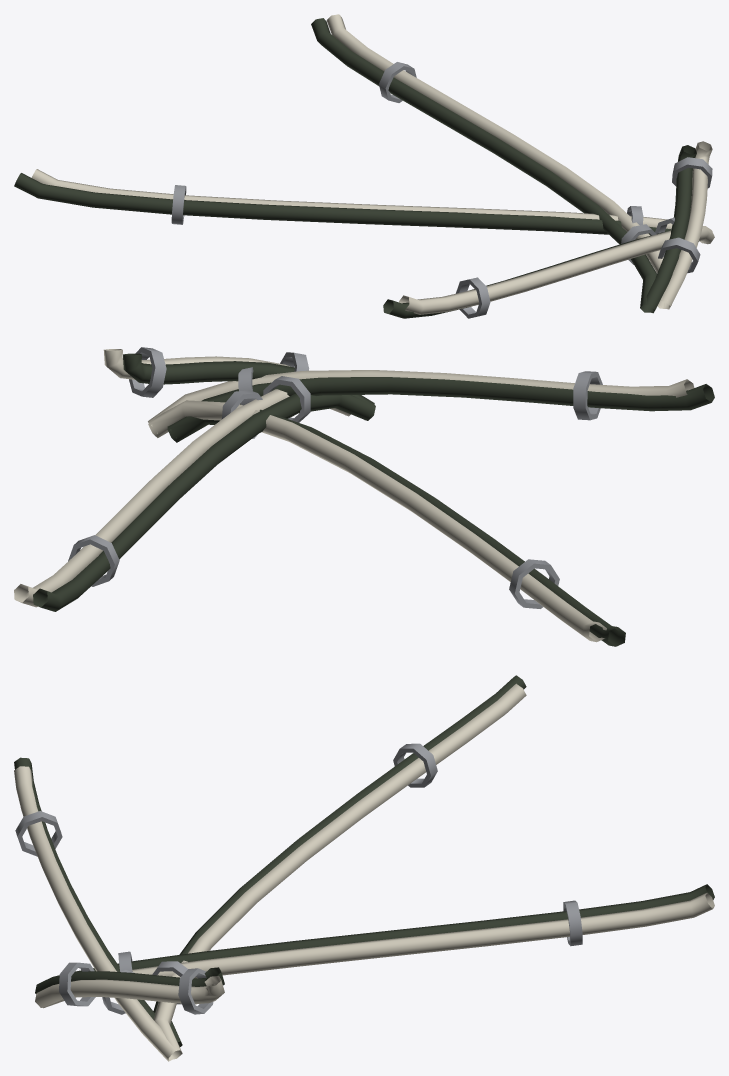
The model's file is rcsh_harness.obj.
3 renders of one model, top to bottom at view 1: azimuth 30°, elevation 25°; view 2: azimuth 150°, elevation 25°; view 3: azimuth 270°, elevation 25°, orthographic. The views are drawn at different scales.
Visible parts, largest first — view 1: rcsh_harness; view 2: rcsh_harness; view 3: rcsh_harness.
Boxes of the visible parts, left/top/right/bottom form: rcsh_harness: left=14, top=14, right=714, bottom=318; rcsh_harness: left=14, top=347, right=714, bottom=646; rcsh_harness: left=14, top=675, right=714, bottom=1061.
Bounding box in the file's own units: 1.19 × 0.1748 × 1.15.
